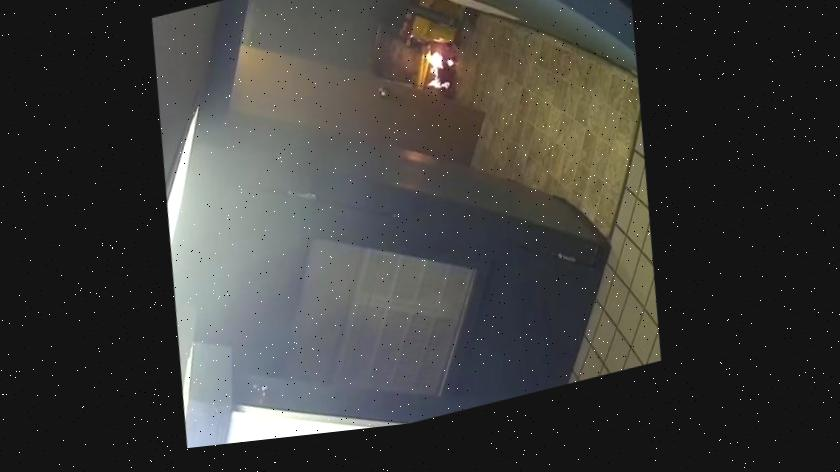fire: (382, 17, 486, 103)
